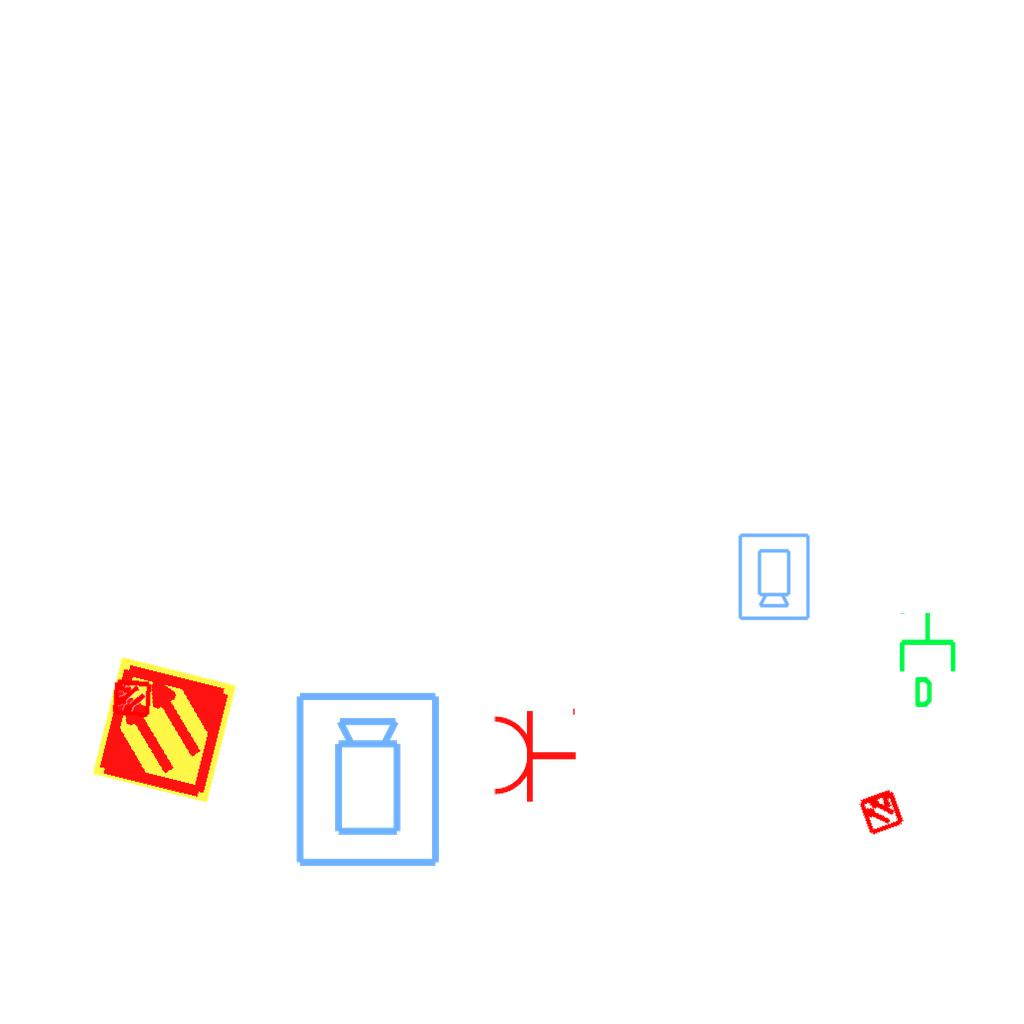ASR_Ansaugrauchmelder: (88, 653, 241, 806)
Datenanschluss_einfach: (895, 610, 964, 710)
KFO_Kamera_mit_Festobjektiv: (292, 689, 446, 871), (735, 531, 812, 622)
OT_Multisensormelder_(Kombination_RMO_WMD): (845, 775, 917, 847), (101, 668, 161, 728)
Schukosteckdose_einfach: (491, 704, 578, 804)
